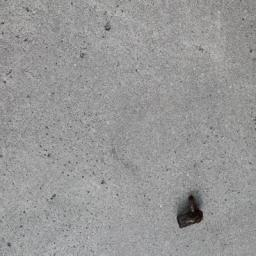FOD: (171, 194, 210, 233)
